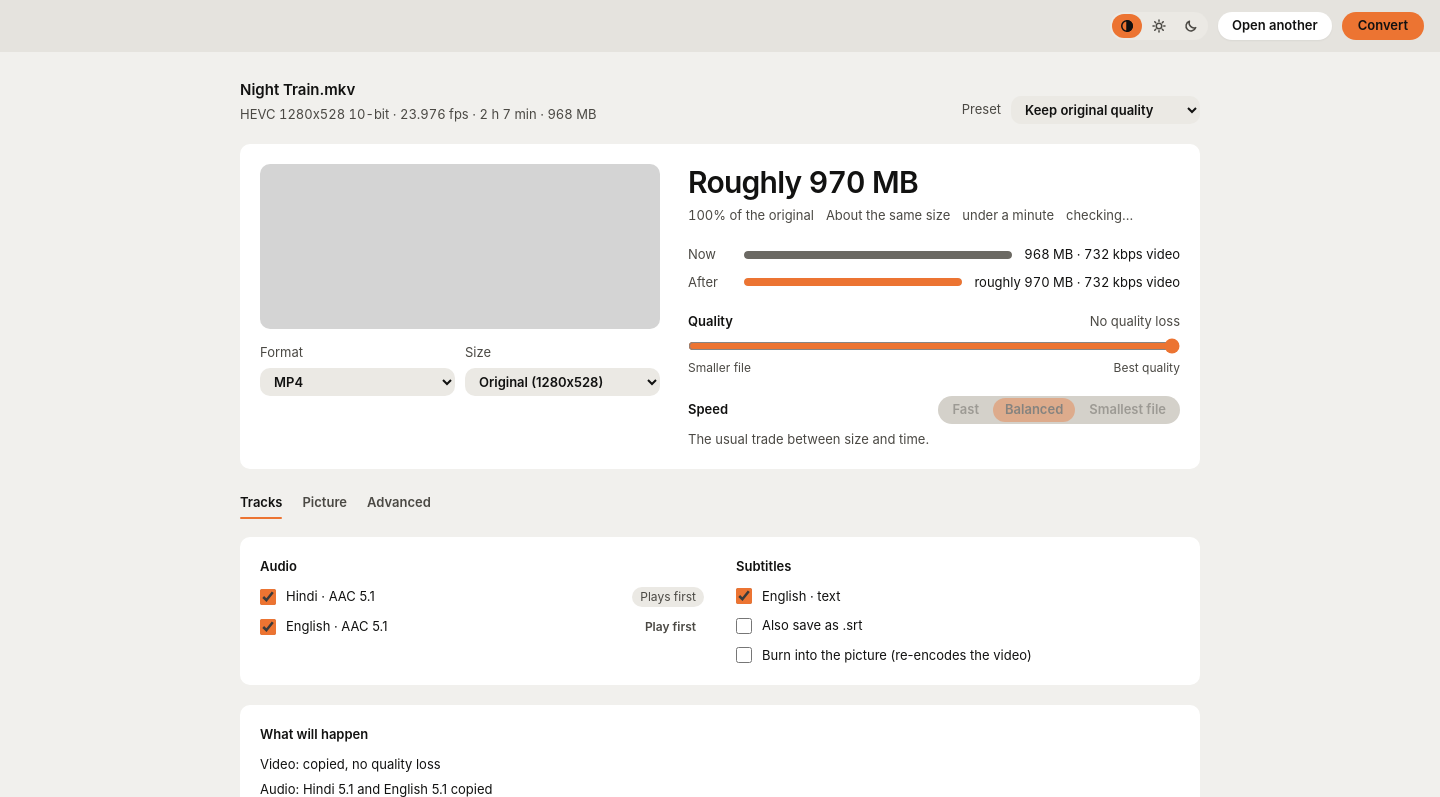
it: the settings tabs › starts a fixed bitrate from the bitrate the slider was heading for
The width and height of the screenshot is (1440, 797).
Step 1. Select "480p (854x352)" in the dropdown labelled "Size" → point(562, 382), box [465, 368, 660, 396]
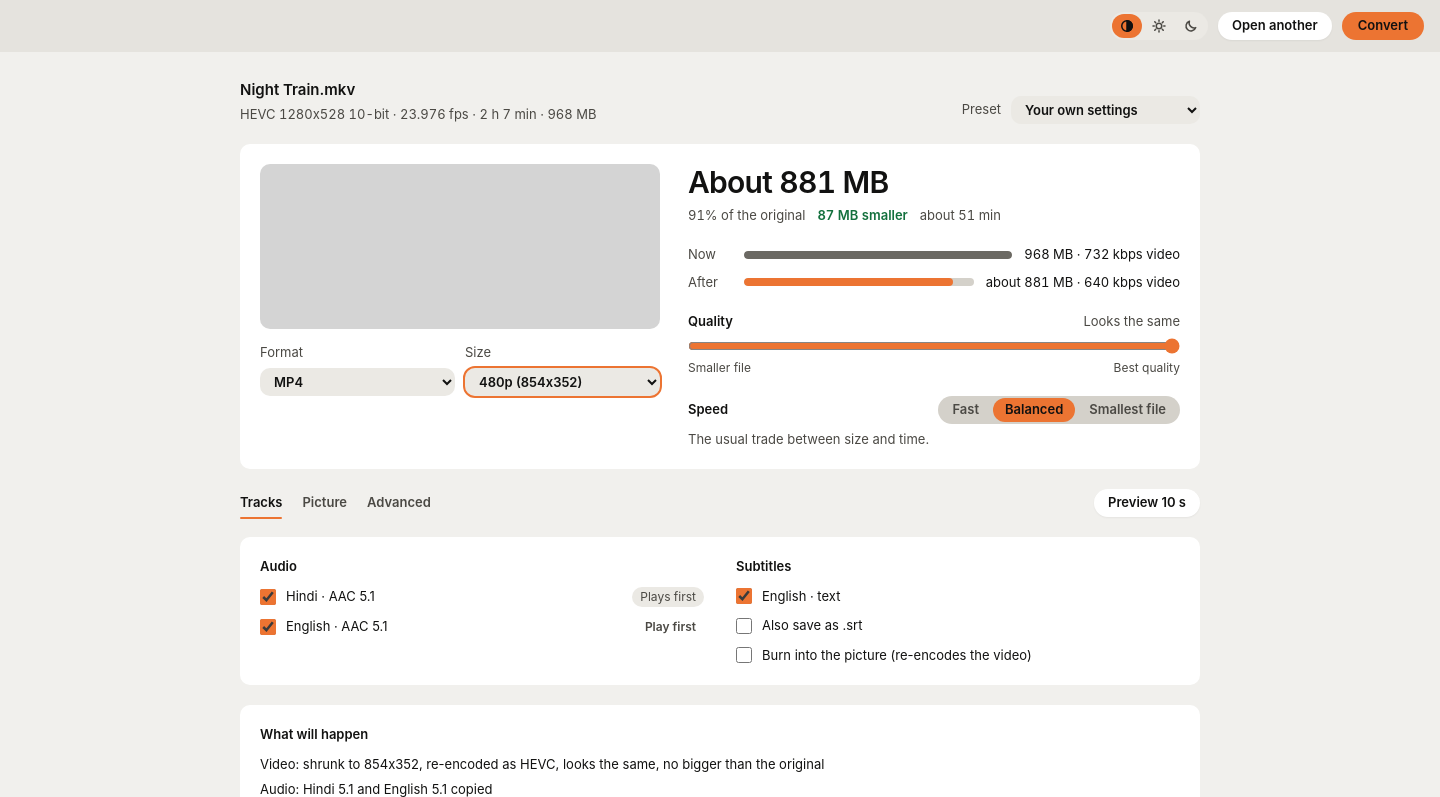
Check: the text "about 881 MB · 640 kbps video" is shown, box [986, 273, 1180, 292]
Step 2. Click the tab "Picture" → point(325, 503), box [302, 489, 347, 517]
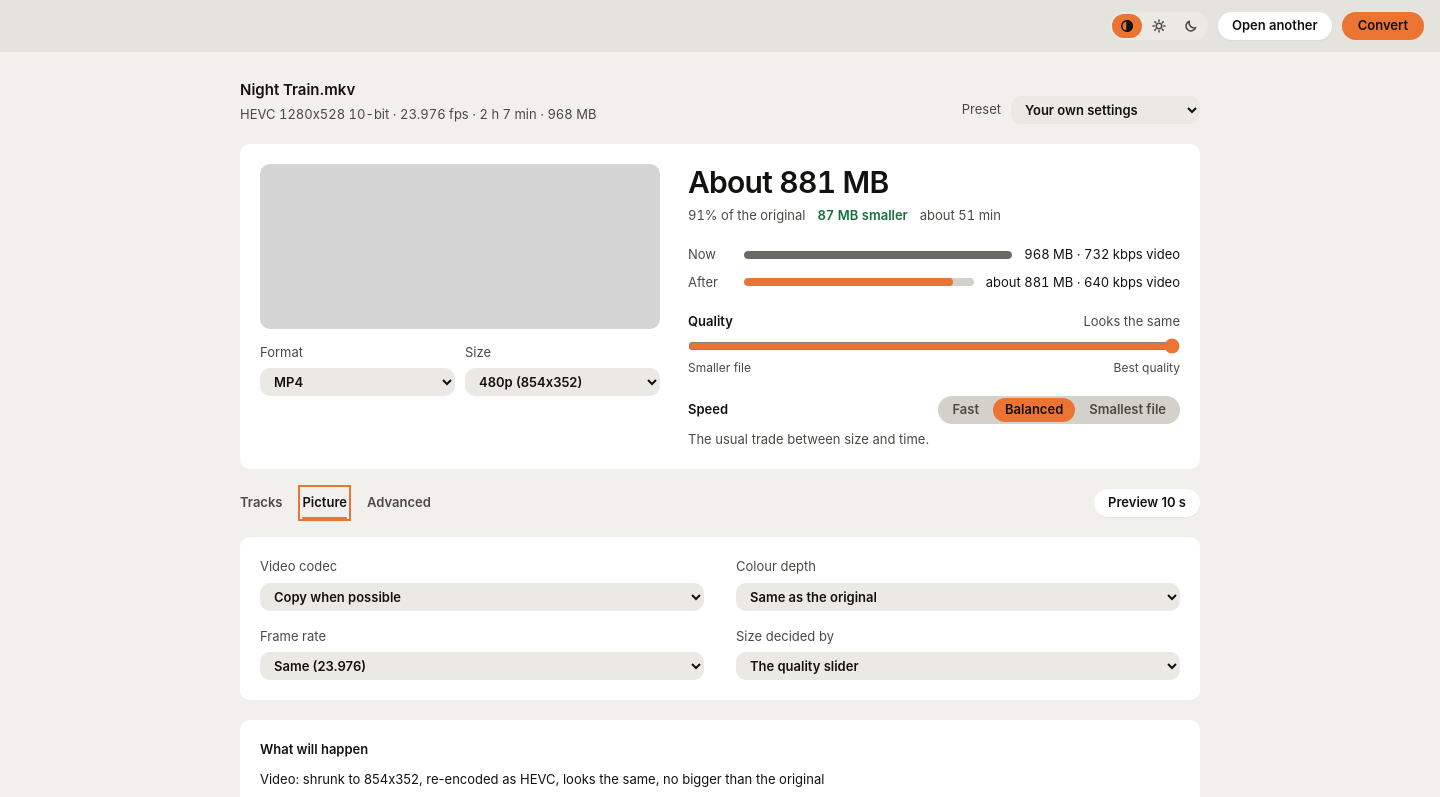
Step 3. Select "A fixed bitrate" in the dropdown labelled "Size decided by" → point(958, 666), box [736, 652, 1180, 680]
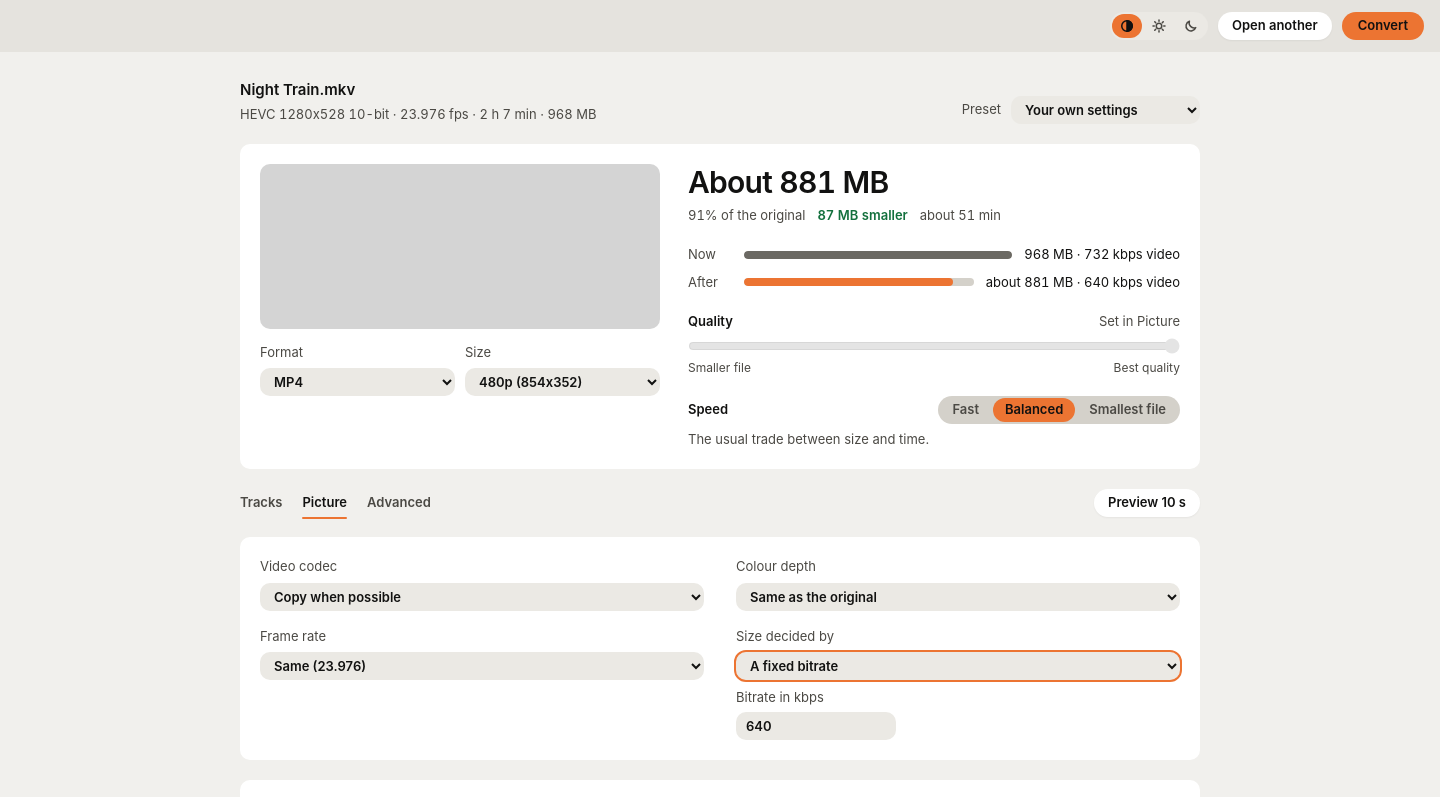
Check: the number field labelled "Bitrate in kbps" holds "640", box [736, 712, 896, 740]
